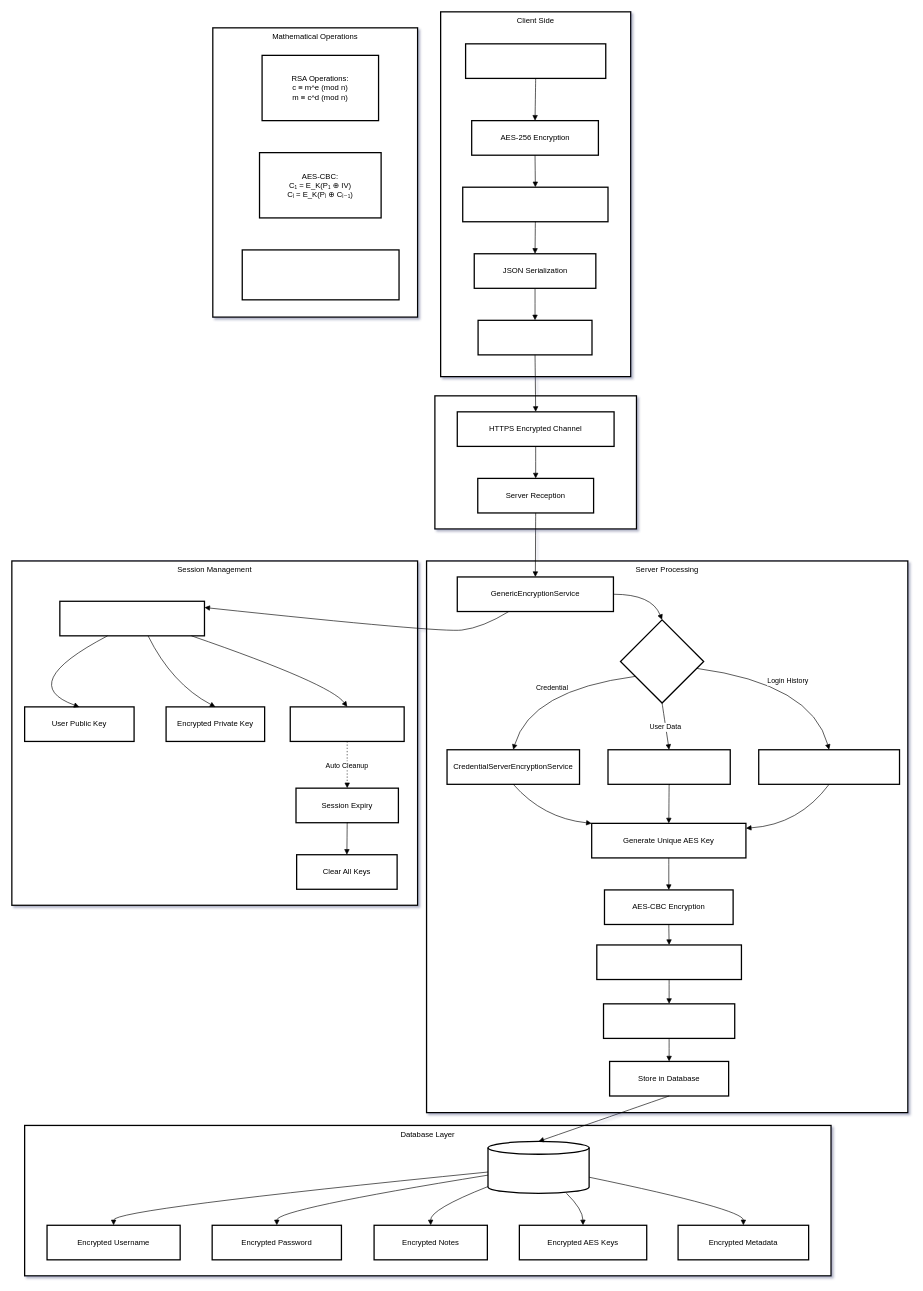
Some shapes in this 923 by 1291 pixel diagram are drawn without their labels. The shapes that lost their labels are listed below. From the top down, each one's box as (x1, y1, x2, y2) in pixels, then its label:
(465, 43, 606, 79): User Data/Credentials
(462, 186, 608, 222): RSA-2048 Key Wrapping
(241, 249, 399, 300): HMAC-SHA256: HMAC(K, IV||C₁||...||Cₙ)
(477, 319, 592, 355): Base64 Encoding
(434, 395, 637, 529): Network Transport
(59, 600, 205, 636): SessionKeyStoreService
(620, 619, 704, 703): Data Type?
(289, 706, 404, 742): Session AES Keys
(607, 749, 731, 785): UserServerEncryptionService
(758, 749, 900, 785): LoginHistoryServerEncryptionService
(596, 944, 742, 980): HMAC-SHA256 Integrity
(603, 1003, 735, 1039): RSA Encrypt AES Key
(487, 1140, 589, 1194): Encrypted Database
